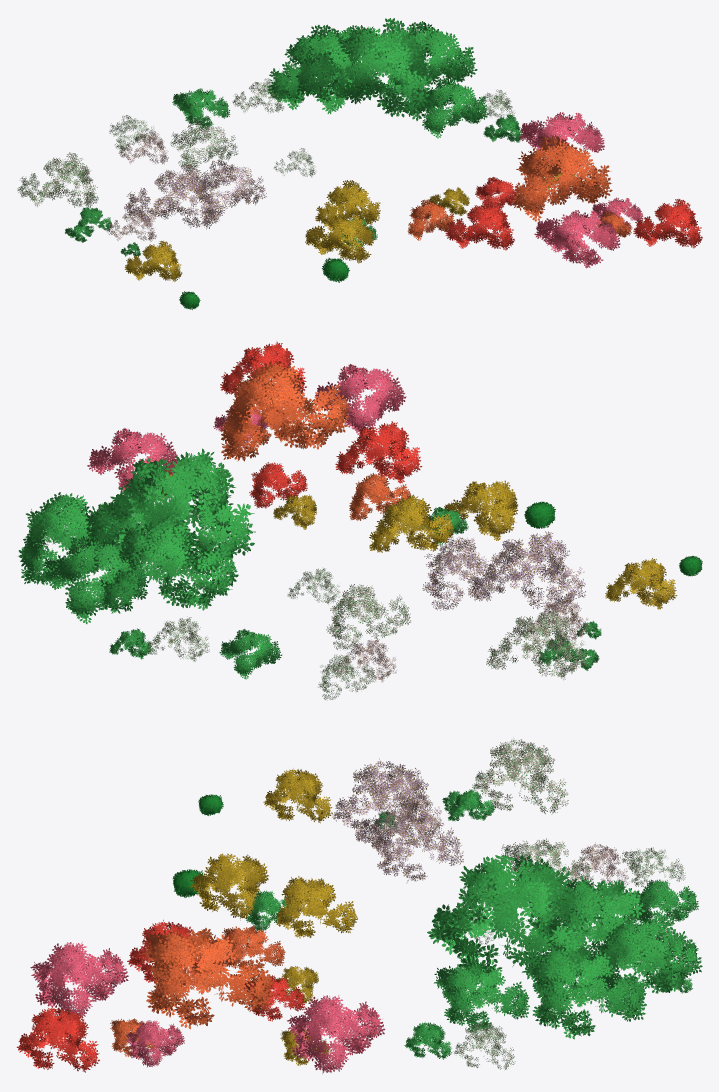
The model's file is leaves.fbx.
3 views of the same model, one above another, from view 1: azimuth 30°, elevation 25°; view 2: azimuth 150°, elevation 25°; view 3: azimuth 270°, elevation 25° (orthographic). The views are drawn at different scales.
Visible parts, largest first — view 1: leaves3074, leaves5018, leaves12794, leaves4532, leaves7448, leaves4046, leaves3560, leaves15224, leaves7934, leaves8420, leaves10364, leaves6476 (+19 smaller); view 2: leaves3074, leaves4532, leaves5018, leaves12794, leaves2589, leaves4046, leaves15224, leaves7448, leaves7934, leaves11336, leaves13280, leaves6476 (+17 smaller); view 3: leaves3074, leaves5018, leaves4046, leaves2589, leaves6476, leaves4532, leaves7448, leaves12794, leaves3560, leaves13280, leaves15224, leaves8420 (+20 smaller).
Boxes of the visible parts, left/top/right/bottom form: leaves3074: left=295, top=18, right=437, bottom=120; leaves5018: left=512, top=135, right=612, bottom=221; leaves12794: left=124, top=163, right=218, bottom=229; leaves4532: left=267, top=24, right=373, bottom=110; leaves7448: left=534, top=210, right=620, bottom=268; leaves4046: left=388, top=21, right=477, bottom=100; leaves3560: left=422, top=77, right=488, bottom=138; leaves15224: left=17, top=152, right=98, bottom=207; leaves7934: left=445, top=201, right=514, bottom=250; leaves8420: left=633, top=199, right=702, bottom=248; leaves10364: left=305, top=214, right=374, bottom=263; leaves6476: left=518, top=112, right=604, bottom=166; leaves3074: left=83, top=448, right=255, bottom=576; leaves4532: left=97, top=515, right=238, bottom=613; leaves5018: left=220, top=361, right=349, bottom=461; leaves12794: left=468, top=531, right=585, bottom=614; leaves2589: left=40, top=536, right=149, bottom=624; leaves4046: left=18, top=492, right=132, bottom=584; leaves15224: left=486, top=609, right=587, bottom=680; leaves7448: left=315, top=364, right=406, bottom=434; leaves7934: left=335, top=421, right=422, bottom=483; leaves11336: left=369, top=494, right=454, bottom=552; leaves13280: left=422, top=536, right=515, bottom=610; leaves6476: left=87, top=428, right=177, bottom=493; leaves3074: left=427, top=850, right=594, bottom=988; leaves5018: left=141, top=928, right=273, bottom=1029; leaves4046: left=522, top=946, right=646, bottom=1039; leaves2589: left=588, top=919, right=702, bottom=1011; leaves6476: left=287, top=995, right=385, bottom=1073; leaves4532: left=544, top=876, right=677, bottom=980; leaves7448: left=30, top=942, right=128, bottom=1018; leaves12794: left=332, top=758, right=444, bottom=848; leaves3560: left=434, top=962, right=529, bottom=1033; leaves13280: left=359, top=810, right=463, bottom=882; leaves15224: left=472, top=737, right=568, bottom=814; leaves8420: left=16, top=1005, right=99, bottom=1072.
Size of the model in its own units: 311 by 71.64 by 297.
Materials: 8 (8 with a texture image).
